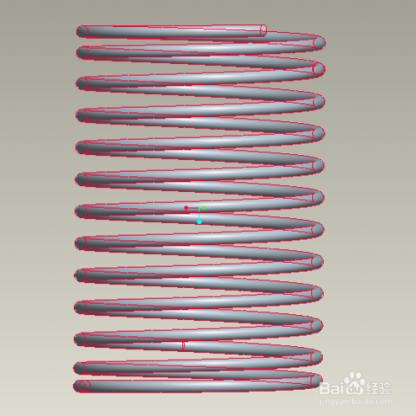FOD: (70, 16, 330, 397)
